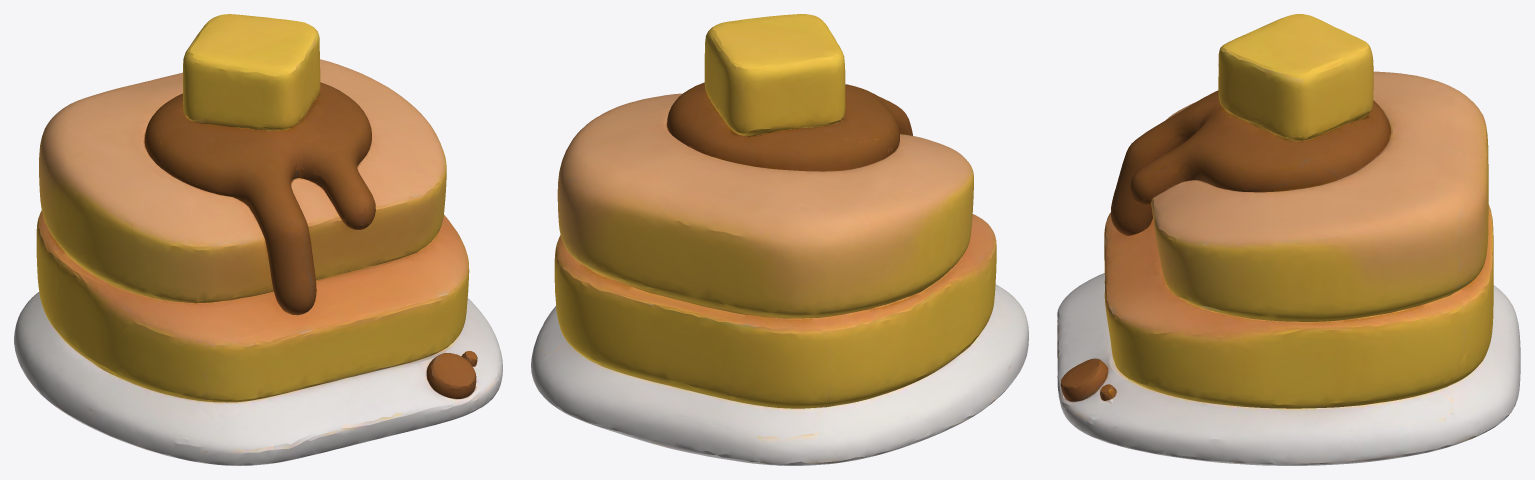
File: pancakes.glb
3 renders of one model, left to right at view 1: azimuth 30°, elevation 25°; view 2: azimuth 150°, elevation 25°; view 3: azimuth 270°, elevation 25°, orthographic. The views are drawn at different scales.
Parts seen in each view (by area): view 1: Mesh; view 2: Mesh; view 3: Mesh.
Boxes of the visible parts, <box> form: Mesh: <box>14,14,502,465</box>; Mesh: <box>531,14,1028,465</box>; Mesh: <box>1057,14,1520,465</box>.
Bounding box in the file's own units: 1 × 0.7733 × 0.9686.
1 material, 1 textured.
